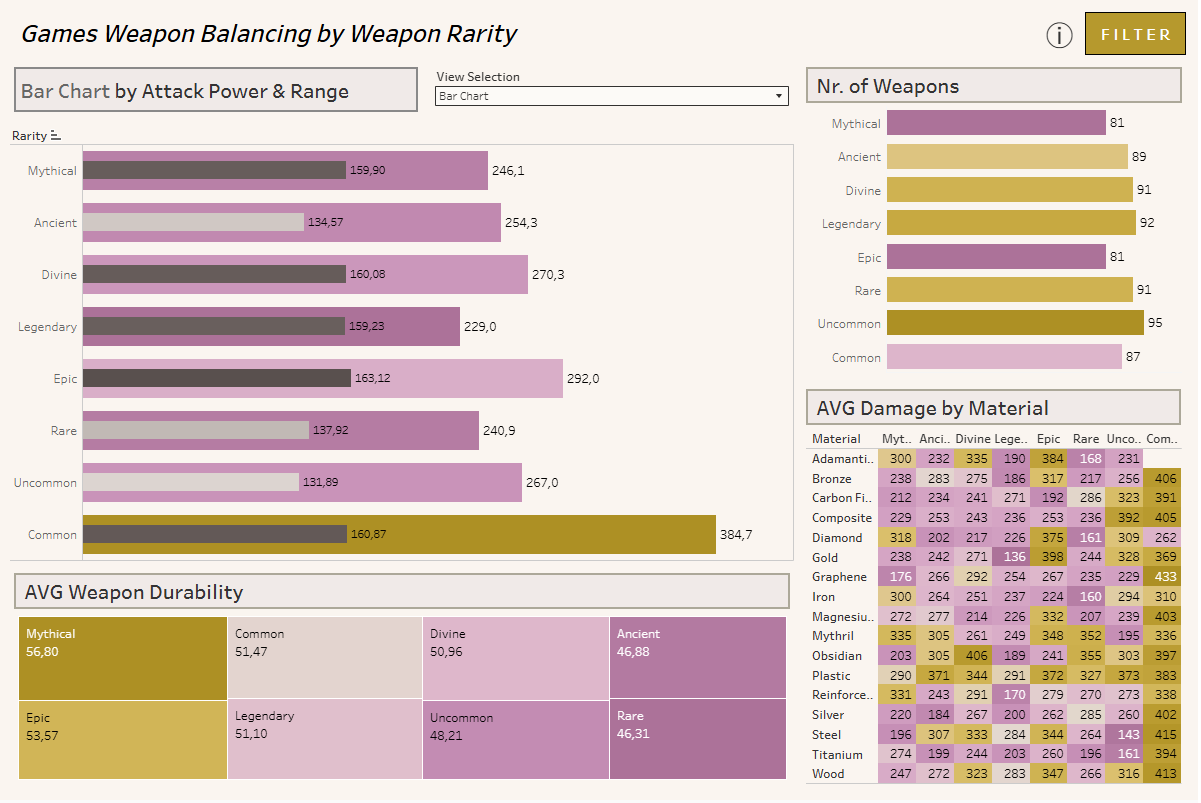

What the dashboard file says about the page in this screenshot:
{"tool":"tableau","page":{"name":"Games Weapon Balancing by Weapon Rarity","canvas":[1200,800],"ordinal":0},"visuals":[{"type":"text","box":[8,8,791,49]},{"type":"blank","box":[799,8,241,51]},{"type":"worksheet","title":"Info Button","mark":"Automatic","box":[1040,8,43,51]},{"type":"dashboard-object","box":[1083,8,109,51]},{"type":"text","box":[8,59,420,61]},{"type":"parameter","param":"[Parameters].[Parameter 1]","box":[428,59,372,61]},{"type":"worksheet","title":"Nr. of Weapons","mark":"Bar","rows":["Rarity"],"cols":["weapons_dataset_unbalanced.csv_B943B6A38FA04796848ED95D9D5E0"],"box":[800,59,392,321.9]},{"type":"text","box":[924,66,275,47]},{"type":"text","box":[924,113,275,34]},{"type":"worksheet","title":"Damage Range (Dumbbell)","mark":"Circle","rows":["Rarity"],"box":[8,120,792,445]},{"type":"filter","title":"Damage Range (Dumbbell)","param":"[federated.006es6e185jma51a1oxma1fv5ktj].[none:Rarity:nk]","box":[924,147,275,190]},{"type":"highlighter","title":"Nr. of Weapons","param":"[federated.006es6e185jma51a1oxma1fv5ktj].[none:Rarity:nk]","box":[924,337,275,34]},{"type":"blank","box":[924,371,275,38]},{"type":"worksheet","title":"AVG Damage by Material","mark":"Square","rows":["Material"],"cols":["Rarity"],"box":[800,380.9,392,411]},{"type":"text","box":[924,409,275,42]},{"type":"legend","title":"AVG Damage by Material","param":"[federated.006es6e185jma51a1oxma1fv5ktj].[avg:AttackPower:qk]","box":[924,451,275,54]},{"type":"legend","title":"Nr. of Weapons","param":"[federated.006es6e185jma51a1oxma1fv5ktj].[__tableau_internal_object_id__].[cnt:w","box":[924,505,275,53]},{"type":"legend","title":"AVG Weapon Durability","param":"[federated.006es6e185jma51a1oxma1fv5ktj].[avg:Durability:qk]","box":[924,558,275,60]},{"type":"worksheet","title":"AVG Weapon Durability","mark":"Automatic","box":[8,565,792,227]}]}

Visuals, with their boxes in screenshot pixels (x1, y1, x2, y2), scaled from the page's 1200x800 canvas onto the 1201x803 screenshot:
text: Rect(8, 8, 800, 57)
blank: Rect(800, 8, 1041, 59)
"Info Button" worksheet: Rect(1041, 8, 1084, 59)
dashboard-object: Rect(1084, 8, 1193, 59)
text: Rect(8, 59, 428, 120)
parameter: Rect(428, 59, 801, 120)
"Nr. of Weapons" worksheet (Bar marks): Rect(801, 59, 1193, 382)
text: Rect(925, 66, 1200, 113)
text: Rect(925, 113, 1200, 148)
"Damage Range (Dumbbell)" worksheet (Circle marks): Rect(8, 120, 801, 567)
"Damage Range (Dumbbell)" filter: Rect(925, 148, 1200, 338)
"Nr. of Weapons" highlighter: Rect(925, 338, 1200, 372)
blank: Rect(925, 372, 1200, 411)
"AVG Damage by Material" worksheet (Square marks): Rect(801, 382, 1193, 795)
text: Rect(925, 411, 1200, 453)
"AVG Damage by Material" legend: Rect(925, 453, 1200, 507)
"Nr. of Weapons" legend: Rect(925, 507, 1200, 560)
"AVG Weapon Durability" legend: Rect(925, 560, 1200, 620)
"AVG Weapon Durability" worksheet: Rect(8, 567, 801, 795)
